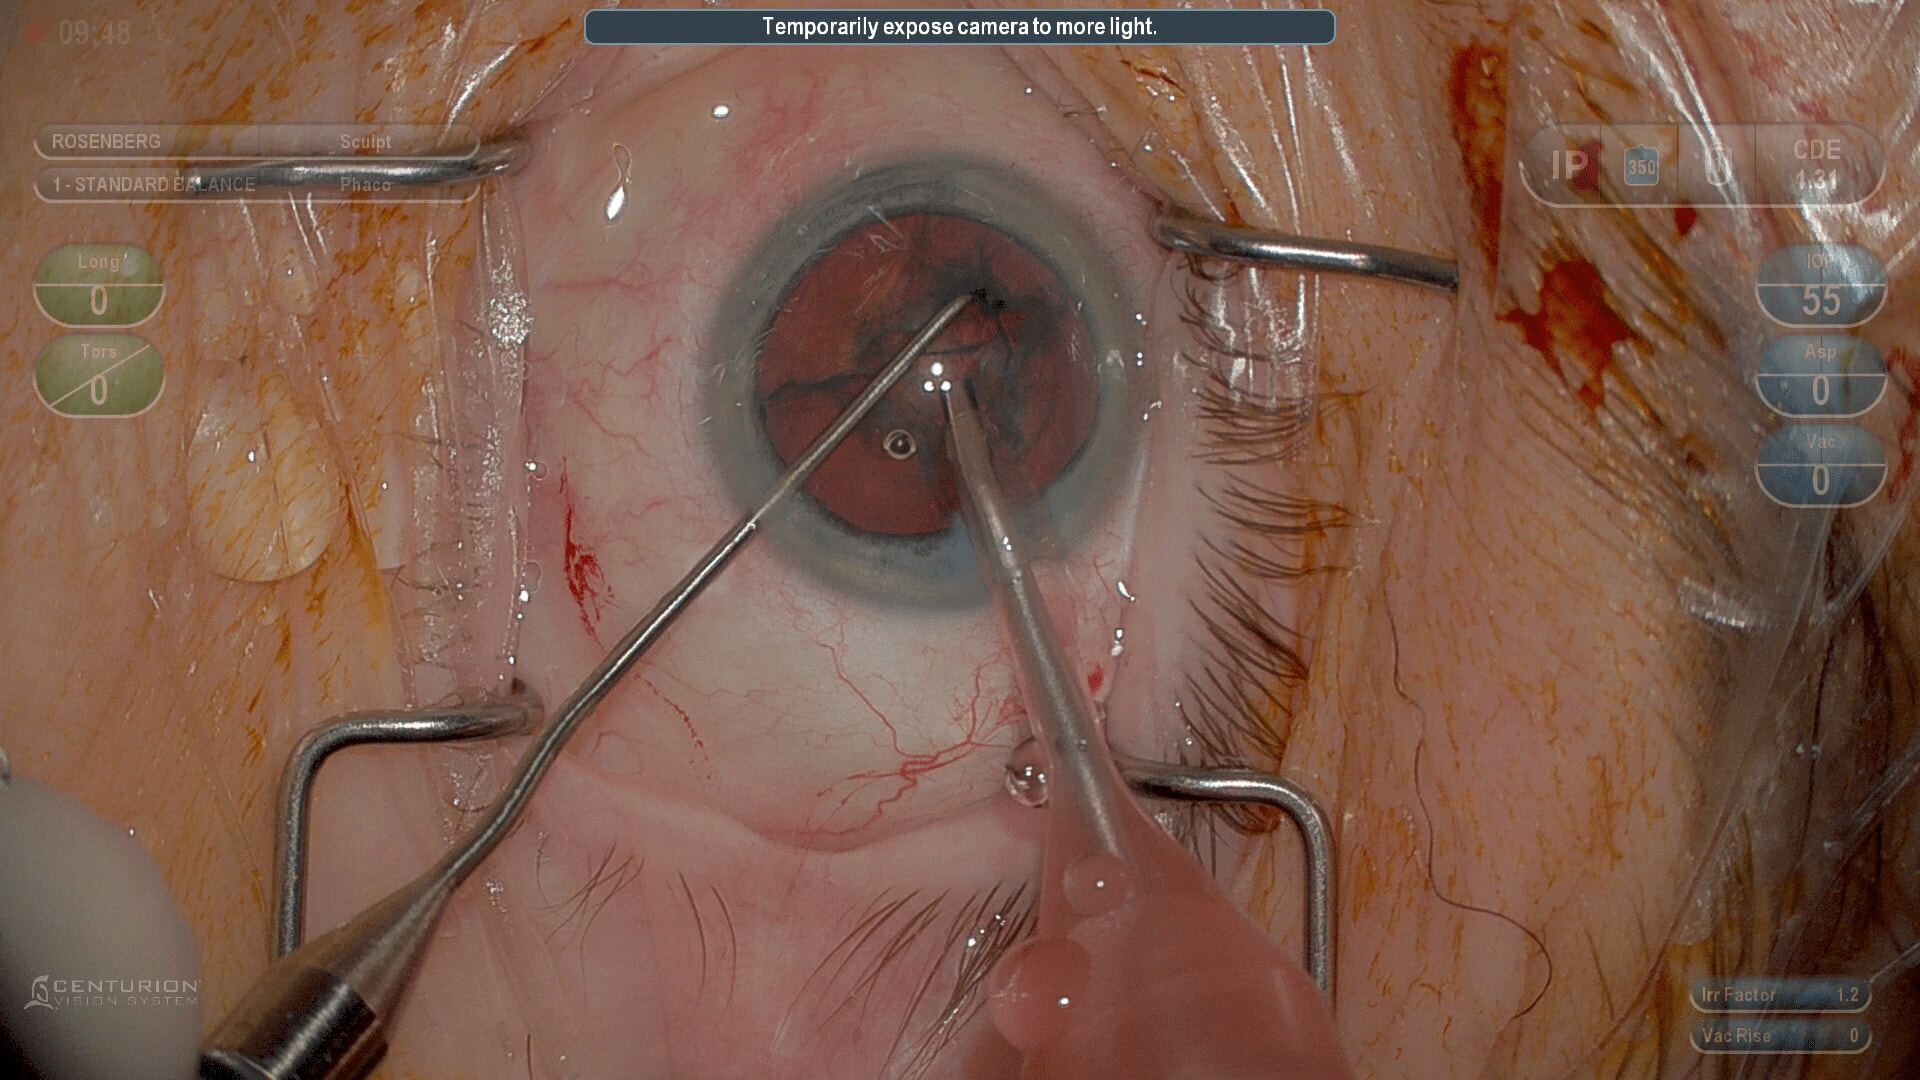iris: (710, 161, 1142, 604)
pupil: (750, 205, 1103, 534)
